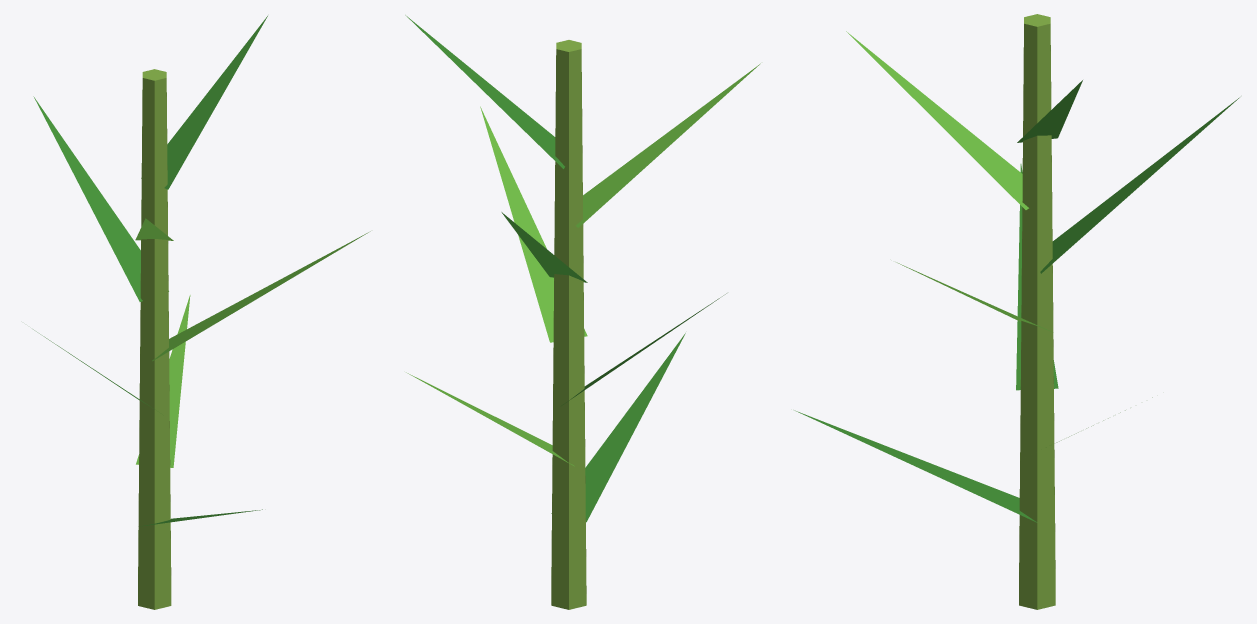
Rendered from corn_3.obj.
3 views of the same model, side by side, from view 1: azimuth 30°, elevation 25°; view 2: azimuth 150°, elevation 25°; view 3: azimuth 270°, elevation 25° (orthographic). The views are drawn at different scales.
Parts seen in each view (by area): view 1: plant; view 2: plant; view 3: plant.
Boxes of the visible parts, <box> form: plant: <box>33,16,370,609</box>; plant: <box>405,15,760,609</box>; plant: <box>794,14,1239,609</box>.
Bounding box in the file's own units: 0.625 × 1.08 × 0.7401.
